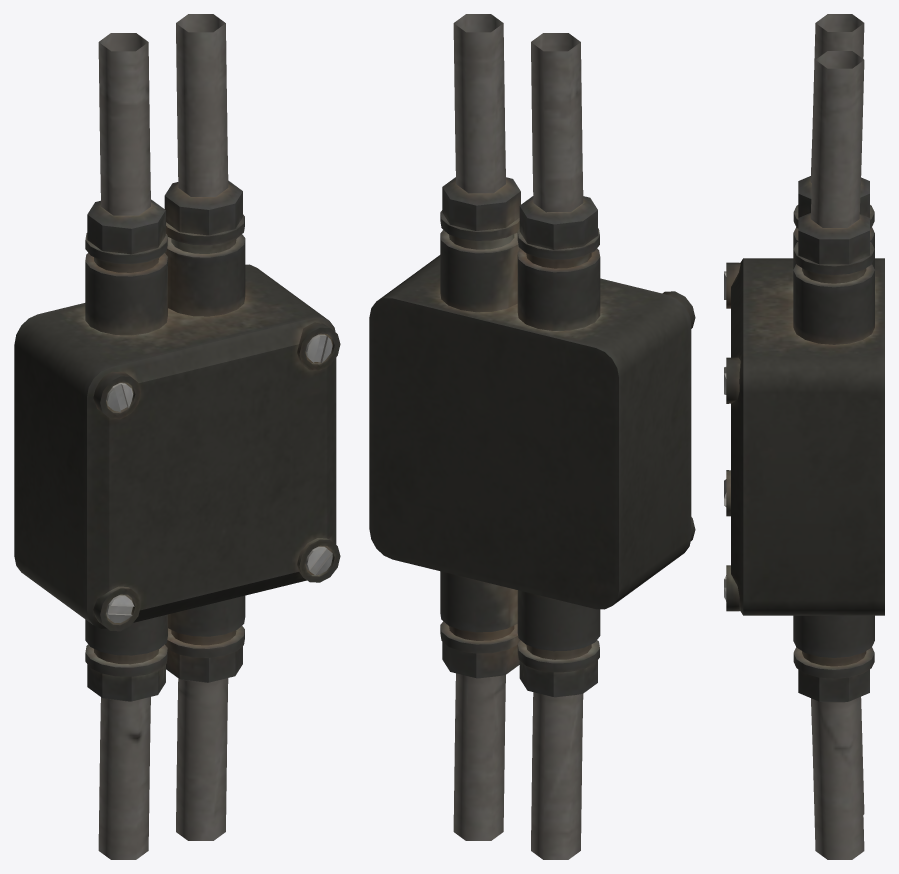
Rendered from cable_box_double.gltf.
The picture shows the model from 3 angles, left to right: view 1: azimuth 30°, elevation 25°; view 2: azimuth 150°, elevation 25°; view 3: azimuth 270°, elevation 25°; orthographic projection. The views are drawn at different scales.
Parts seen in each view (by area): view 1: cable_box_double; view 2: cable_box_double; view 3: cable_box_double.
Boxes of the visible parts, x1=… form: cable_box_double: x1=14, y1=14, x2=340, y2=859; cable_box_double: x1=369, y1=14, x2=695, y2=859; cable_box_double: x1=724, y1=14, x2=884, y2=859.
Bounding box in the file's own units: 0.0646 × 0.2 × 0.0369.
Materials: 1 (1 with a texture image).
